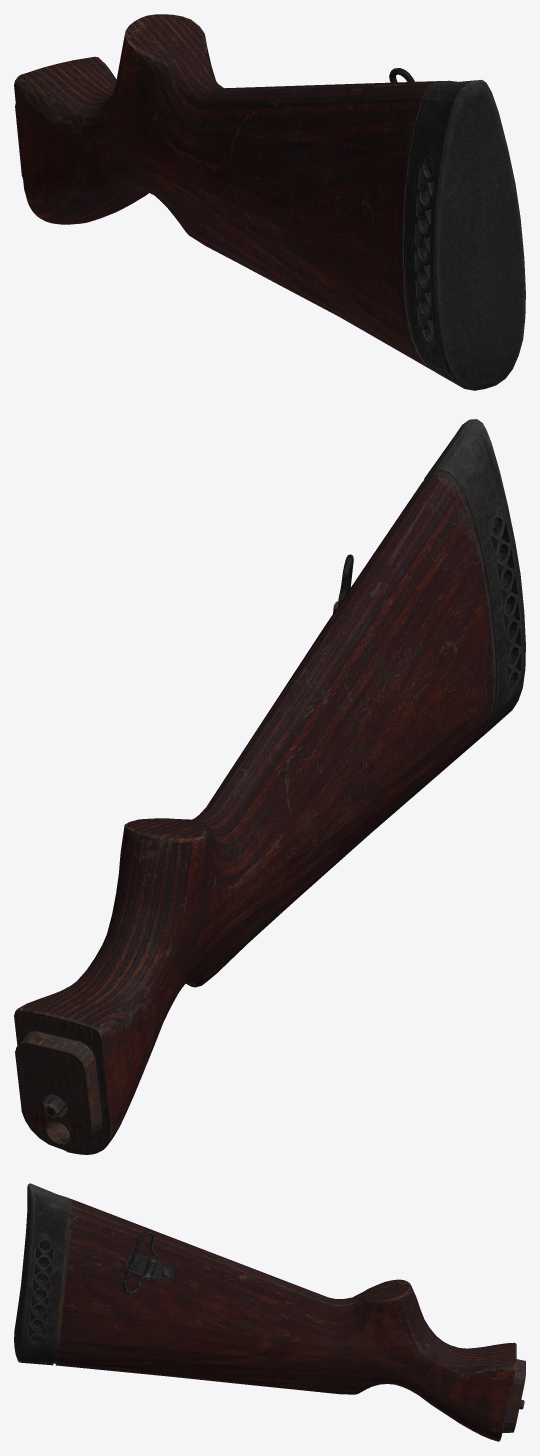
3 views of the same model, one above another, from view 1: azimuth 30°, elevation 25°; view 2: azimuth 150°, elevation 25°; view 3: azimuth 270°, elevation 25° (orthographic). The views are drawn at different scales.
Parts seen in each view (by area): view 1: TW_5e848db4681bea2ada00daa9_PZ_Import; view 2: TW_5e848db4681bea2ada00daa9_PZ_Import; view 3: TW_5e848db4681bea2ada00daa9_PZ_Import.
Part boxes in pixels (<box>): TW_5e848db4681bea2ada00daa9_PZ_Import: <box>14,14,525,390</box>; TW_5e848db4681bea2ada00daa9_PZ_Import: <box>14,419,525,1154</box>; TW_5e848db4681bea2ada00daa9_PZ_Import: <box>14,1183,525,1441</box>.
Size of the model in its own units: 0.027 by 0.2098 by 0.115.
1 material, 1 textured.
